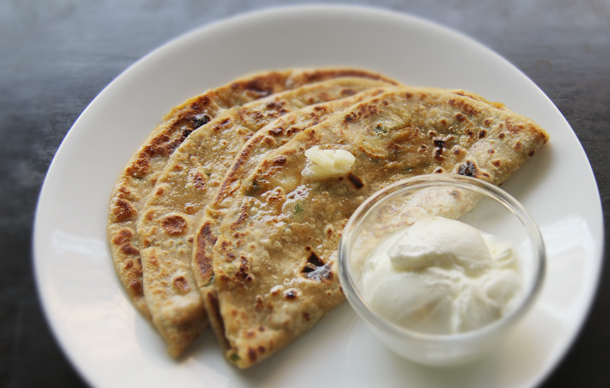aloo_paratha: (104, 64, 551, 365)
